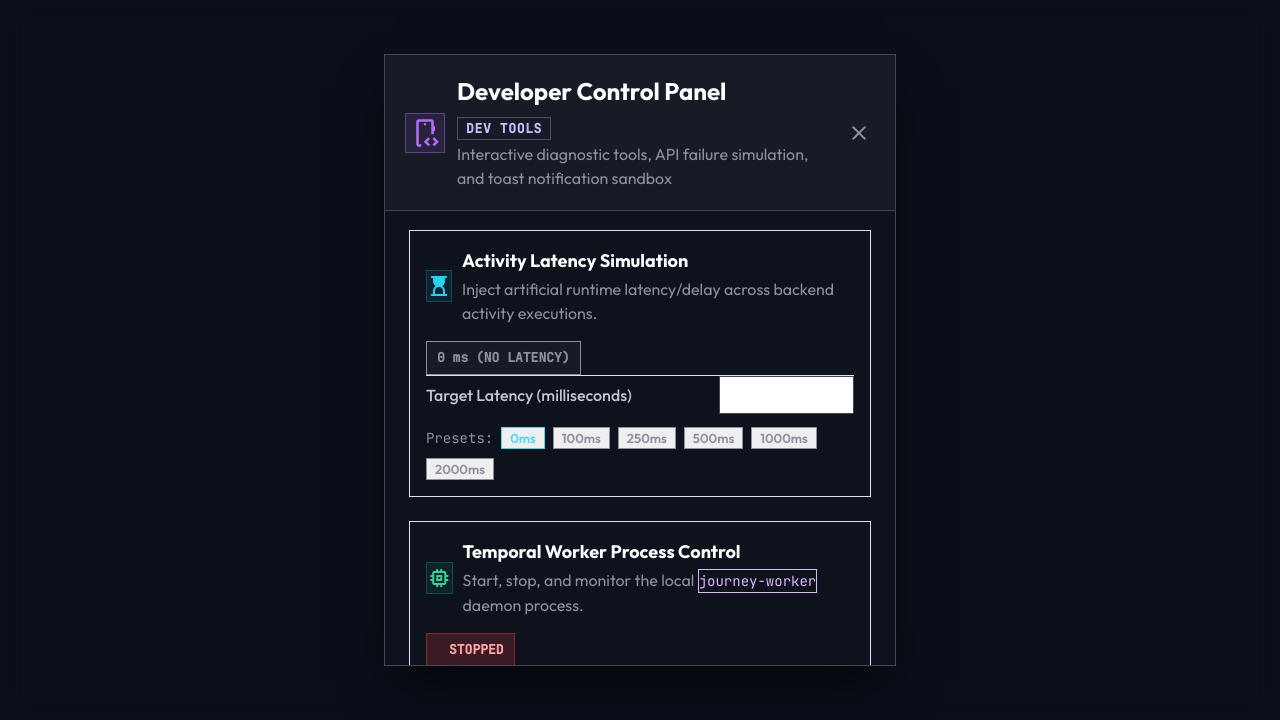
Scenario: DeveloperPanel Component › renders Activity Latency Simulation card and allows updating latency via input and presets
(page scrolled)
Check: the element with test id "activity-latency-simulation-card" is shown, box [409,230,871,497]
Check: the text "Activity Latency Simulation" is shown, box [462,247,688,275]
// Change via preset
Click the button with test id "latency-preset-250" at (647, 438), box [618,427,676,449]
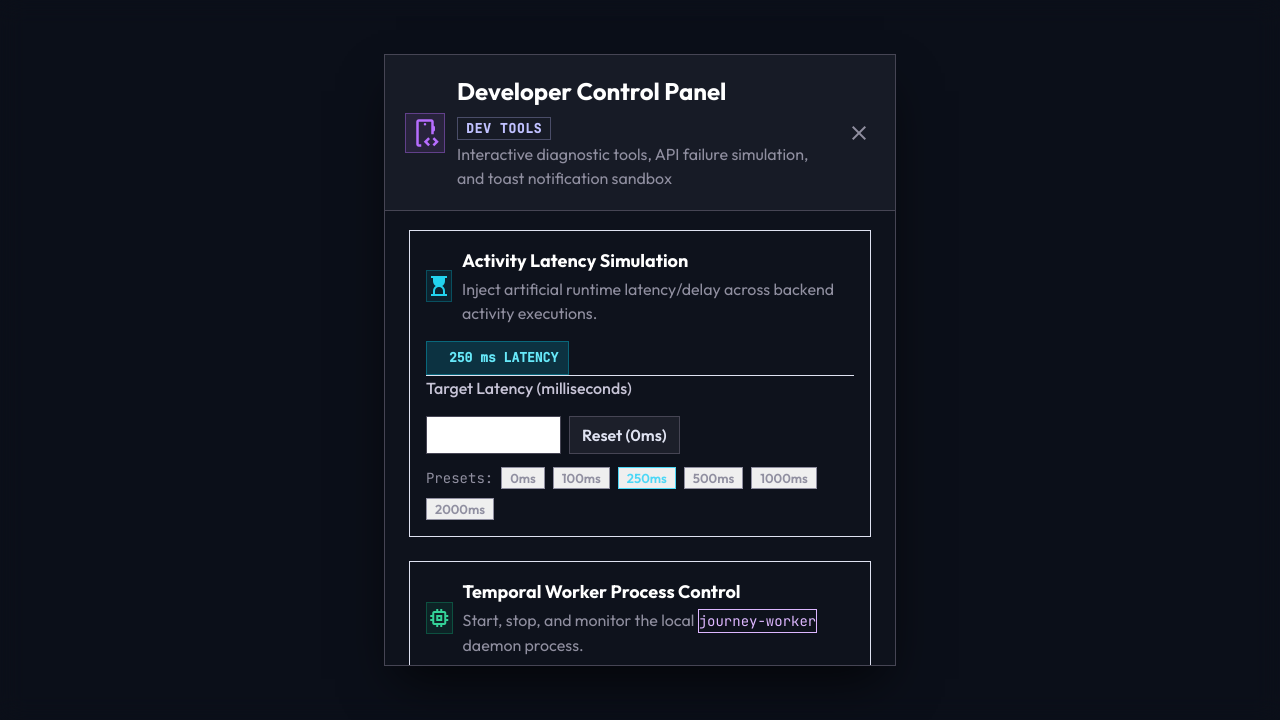
Check: the number field with test id "dev-activity-latency-input" holds "250", box [426,416,561,454]
Check: the element with test id "activity-latency-status-active" reads "250 ms LATENCY", box [426,341,569,375]
// Reset back to 0
Click the button with test id "clear-activity-latency-btn" at (624, 435), box [569,416,680,454]
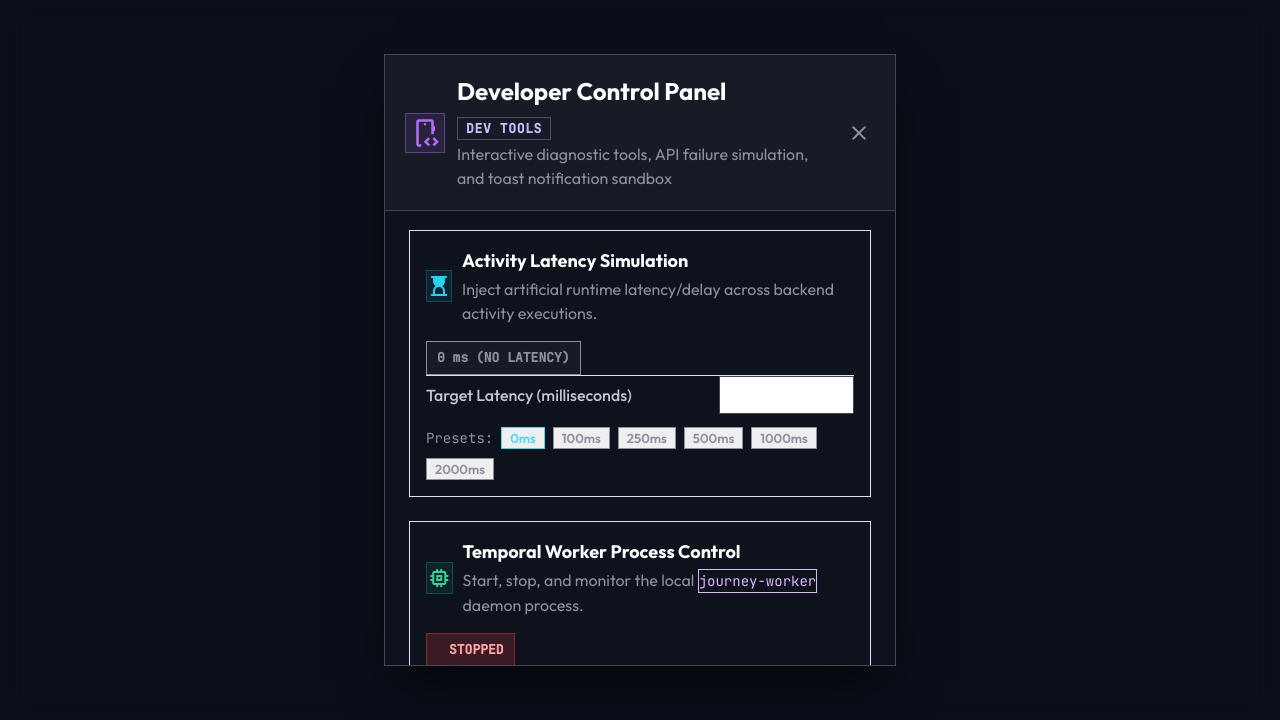
Check: the number field with test id "dev-activity-latency-input" holds "0", box [719,376,854,414]
Check: the text with test id "activity-latency-status-disabled" reads "0 ms (NO LATENCY)", box [437,349,570,366]
